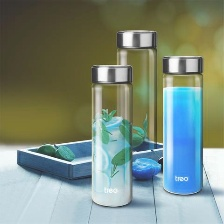bottle: (87, 62, 135, 211), (160, 50, 206, 201), (114, 26, 159, 156)
